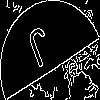J: (25, 25, 58, 78)
